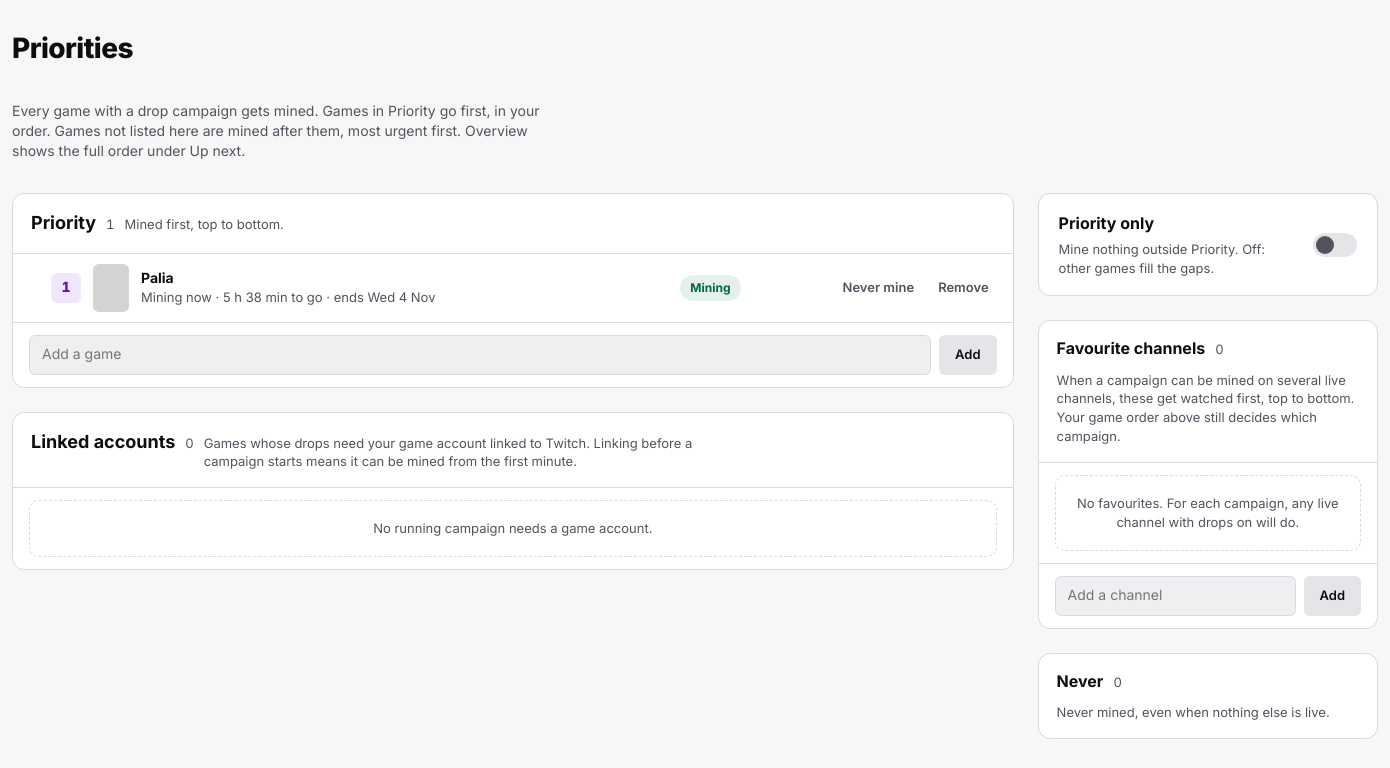
Scenario: a rejected save rolls back and says why
Click the button with aria-label "Never mine Palia": [878, 288] box [832, 268, 924, 308]
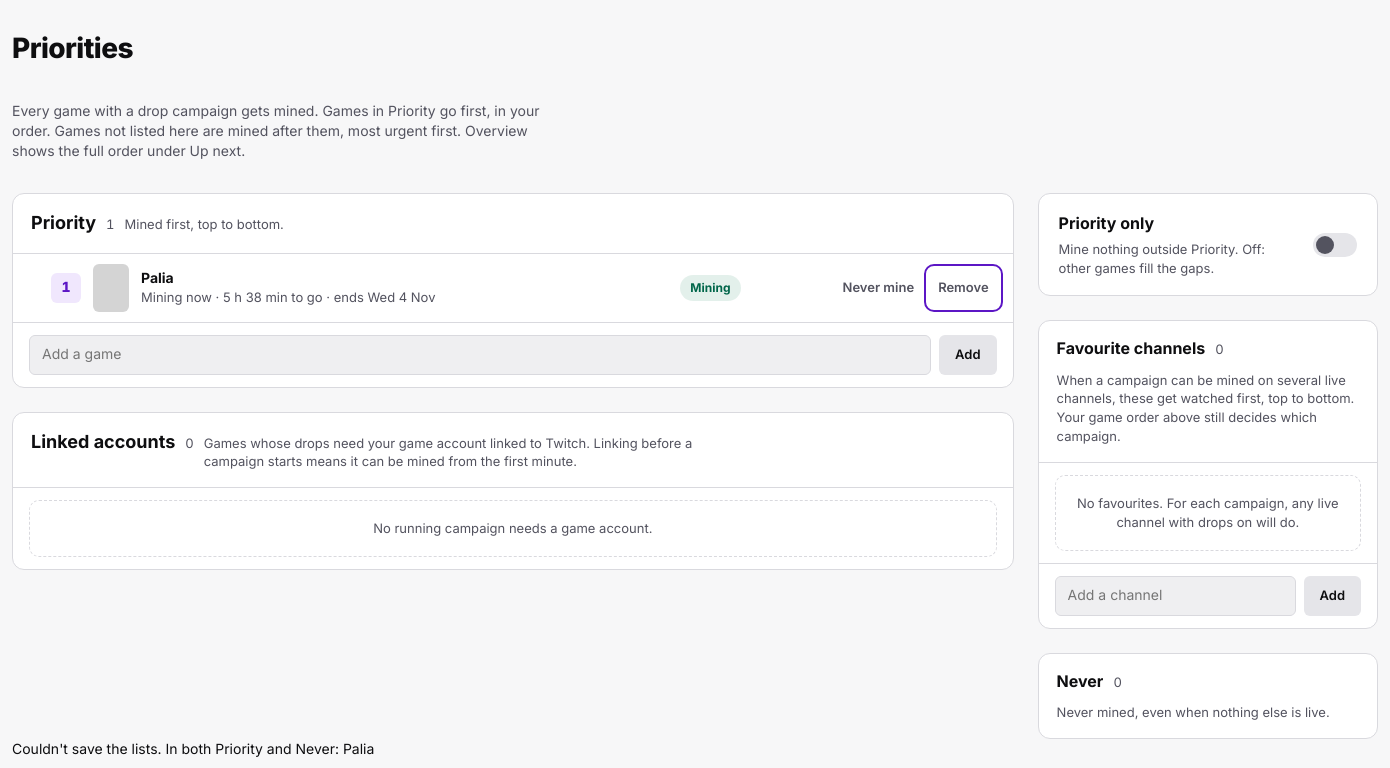
Expected: the element with id "z-priority" shows "Palia", [141, 269, 174, 286]
Now the text with test id "said" shows "In both Priority and Never: Palia", box [12, 740, 374, 757]
